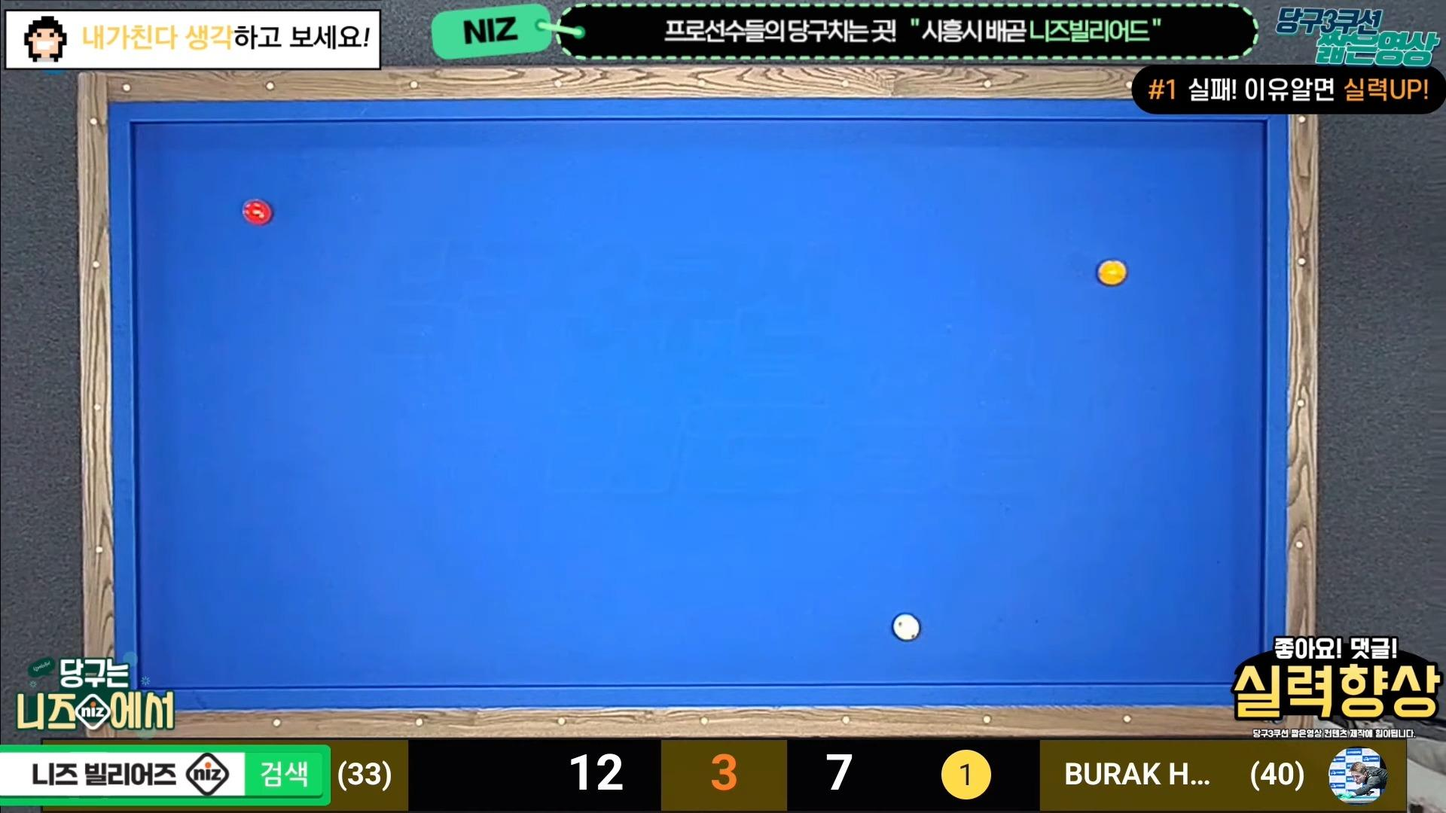-billiard-ball: (891, 612, 920, 642), (1097, 258, 1127, 286)
Red: (240, 201, 276, 228)
White: (889, 614, 922, 642)
Yellow: (1096, 260, 1131, 287)
